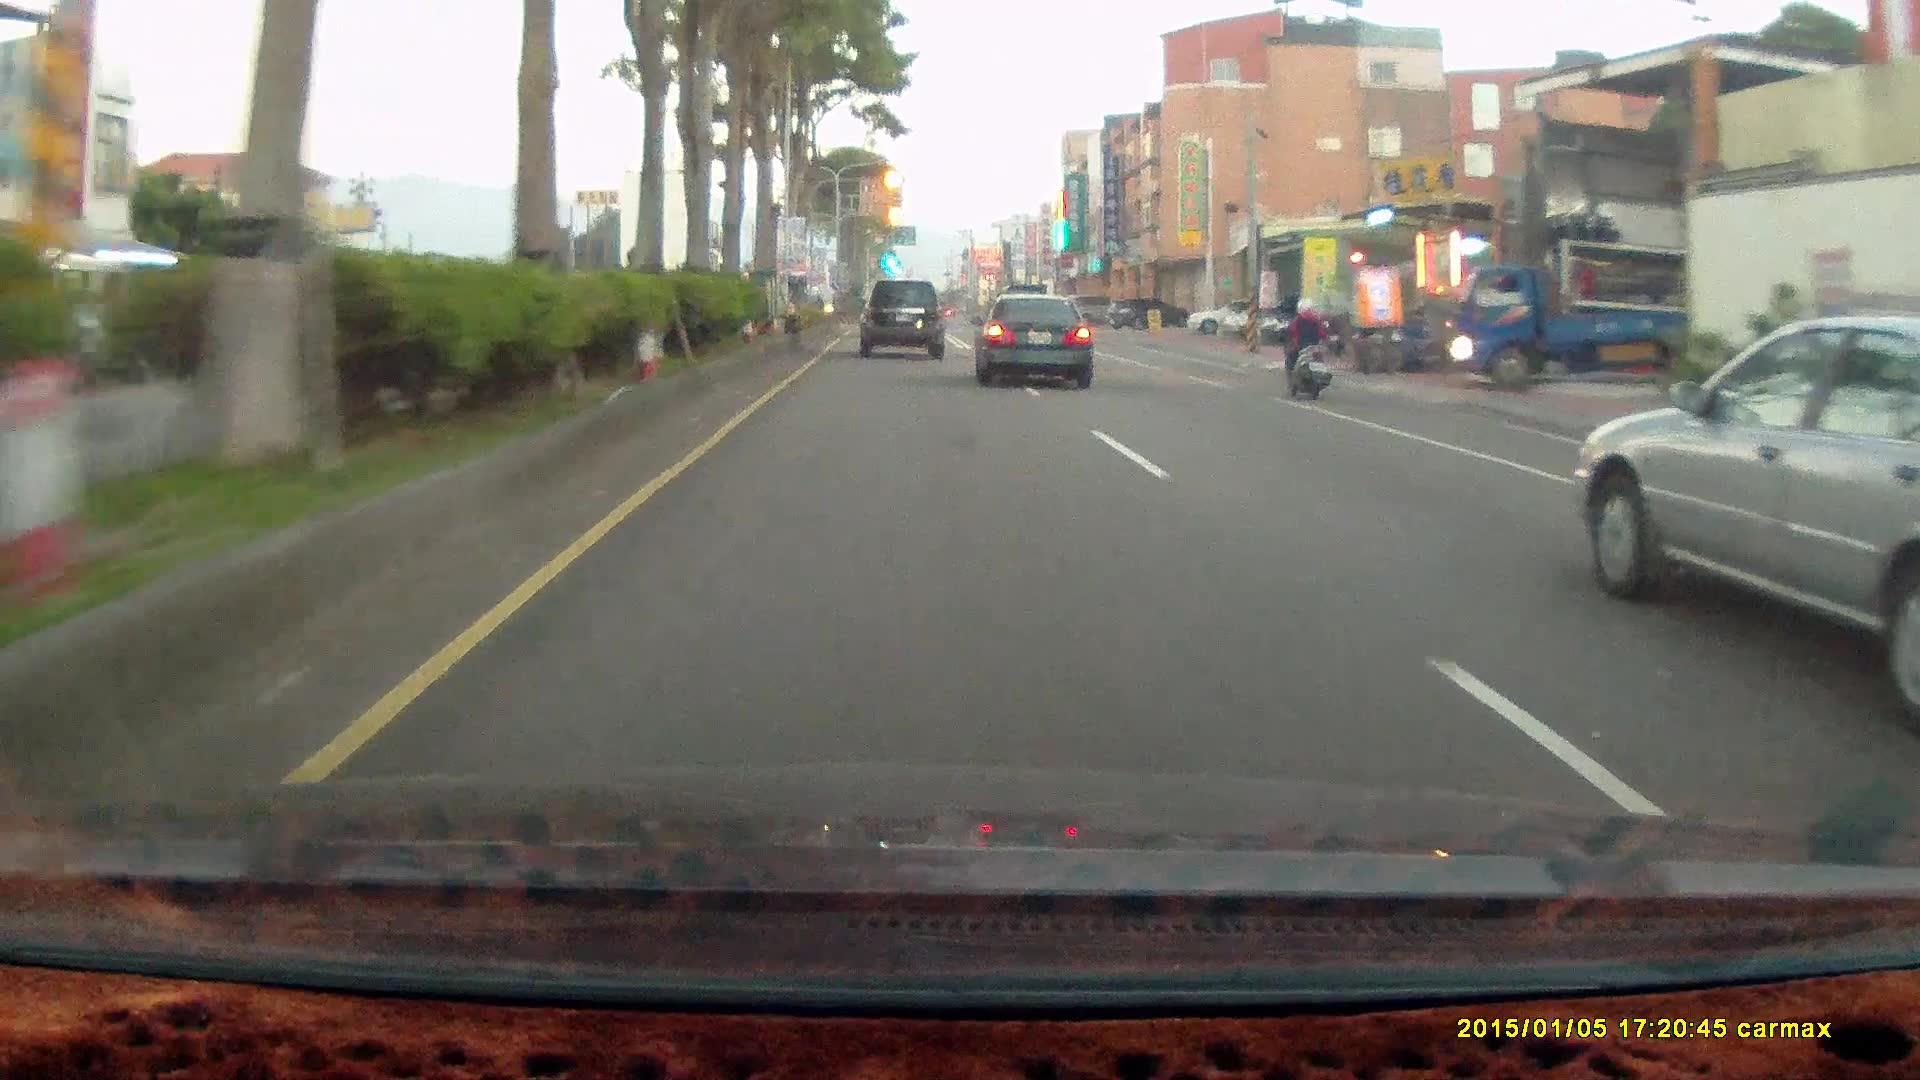rider: (1268, 285, 1347, 414), (1277, 298, 1335, 402)
vehicle: (1576, 309, 1919, 727), (1577, 310, 1920, 728), (1453, 242, 1693, 390), (1452, 266, 1735, 389), (967, 293, 1094, 389), (979, 296, 1101, 391), (863, 282, 951, 362), (857, 278, 945, 359), (1265, 295, 1362, 345), (1187, 299, 1279, 336), (1107, 299, 1186, 332), (1068, 294, 1130, 329)
